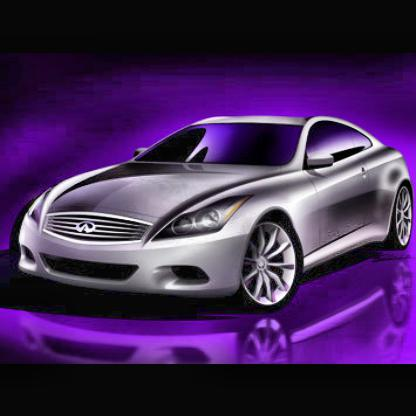Infiniti G Coupe IPL 2012: (18, 115, 416, 314)
